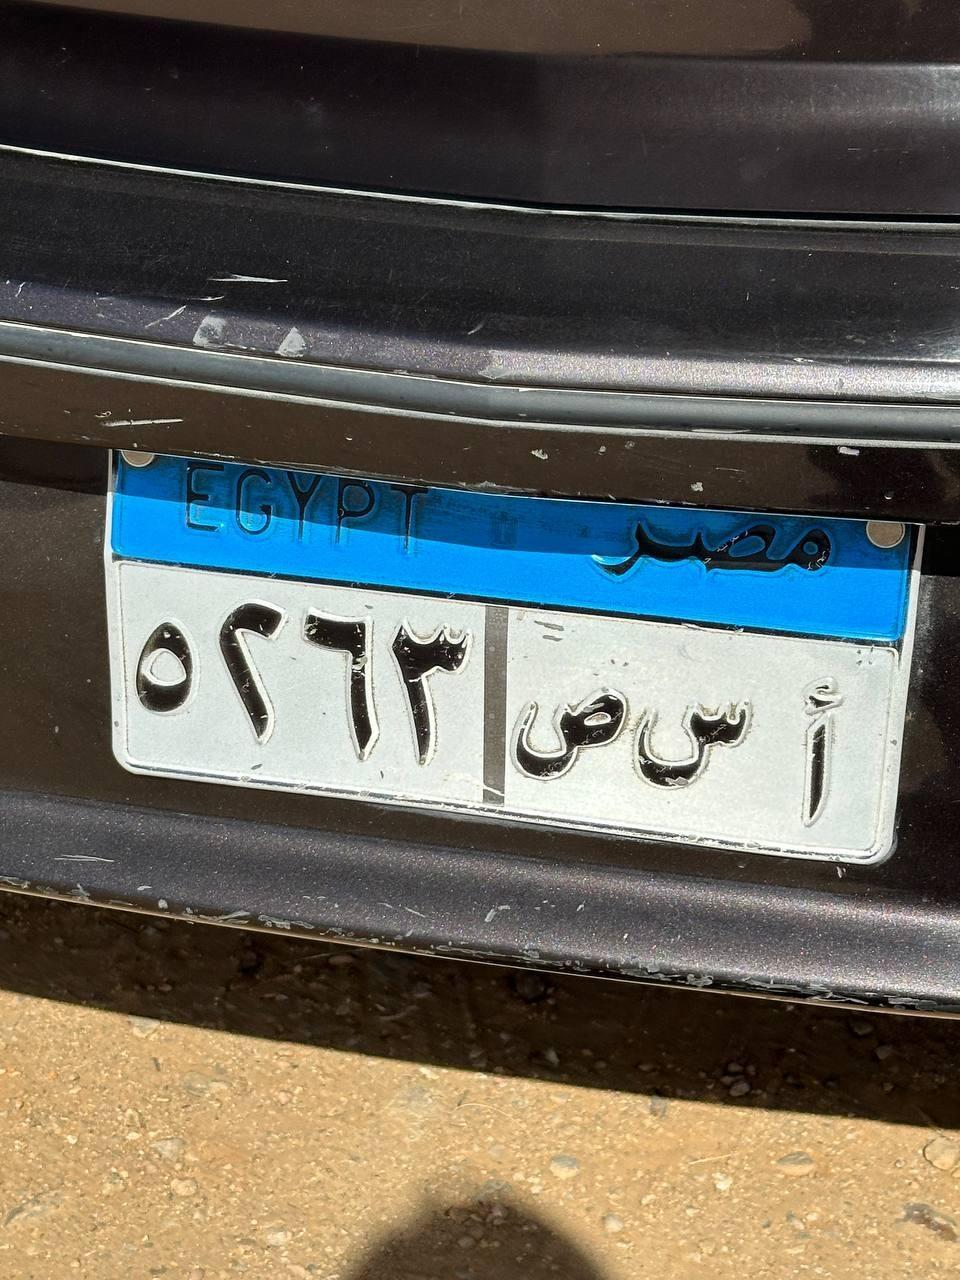2: (218, 588, 281, 746)
3: (396, 603, 486, 772)
5: (126, 613, 200, 718)
6: (286, 600, 384, 770)
License Plate: (99, 446, 928, 871)
Saad: (510, 670, 624, 786)
Seen: (623, 688, 751, 800)
alef: (798, 666, 847, 819)
